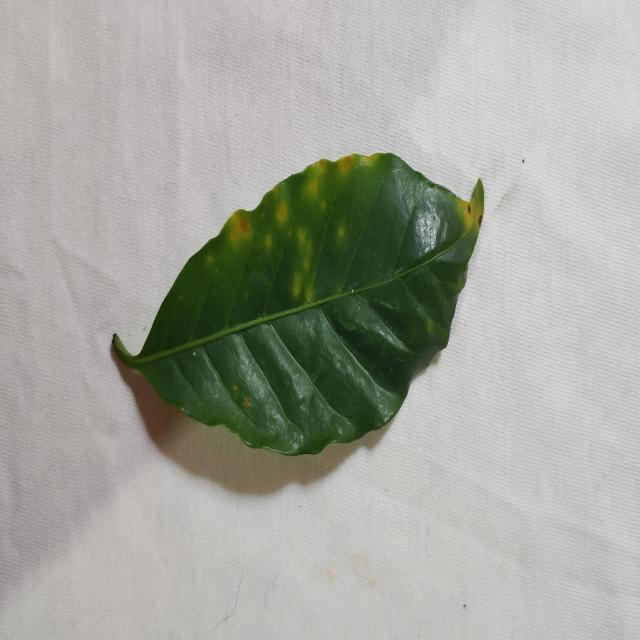Enfermedad-Roya: (109, 153, 486, 459)
